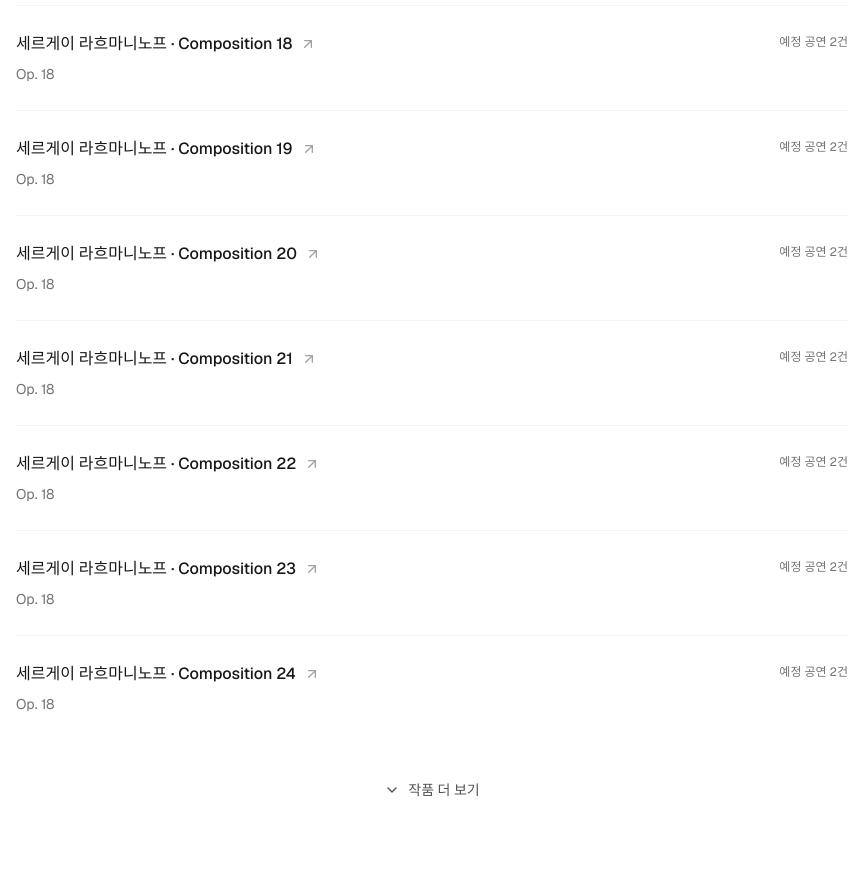
Test case: search-first experience › appends pages once and resets paging on a new submitted query
(page scrolled)
Expected: the link "Composition 30" is not shown
Click the button "작품 더 보기".
click(432, 790)  # box [368,768,496,812]
Wait 150 ms
(page scrolled)
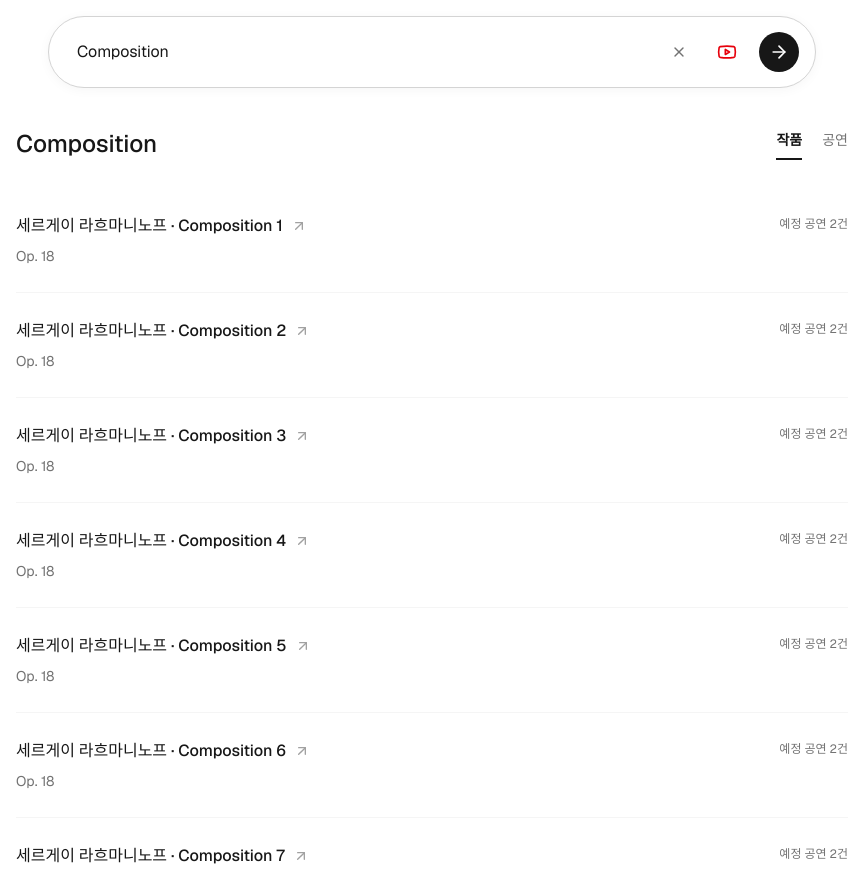
Now the number of links "세르게이 라흐마니노프 · Composition 1" is 30
Replace the text in the dropdown named "곡명, 작곡가, 별칭 검색" with "Composition 30" at (364, 52), box [77,20,651,84]
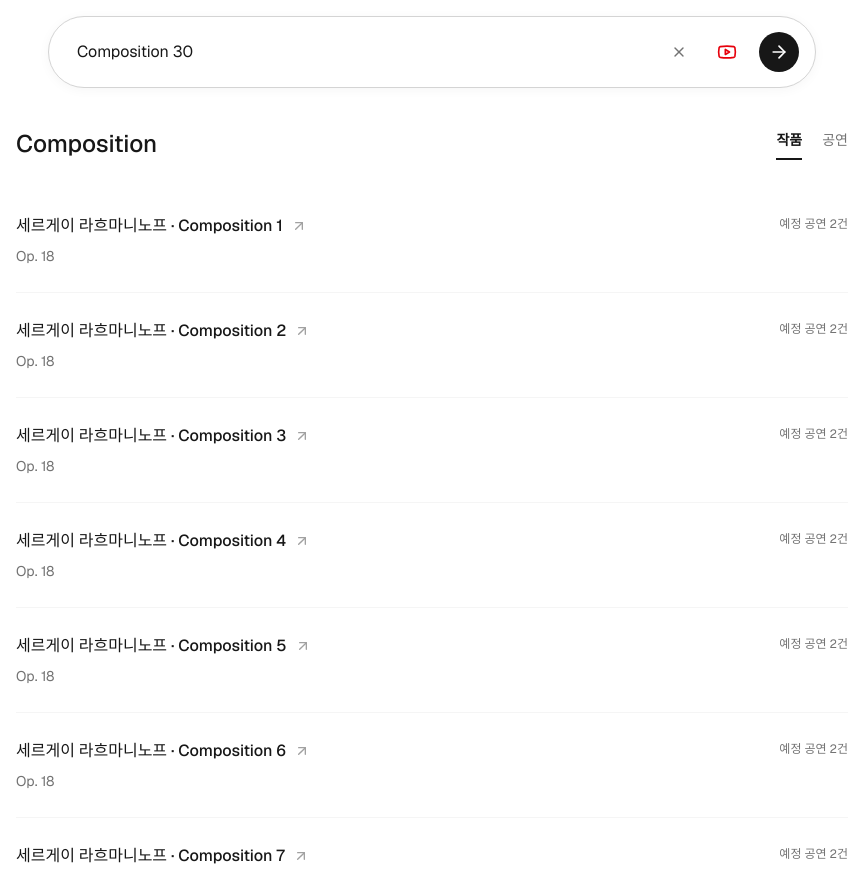
Press Enter in the dropdown named "곡명, 작곡가, 별칭 검색", box [77,20,651,84]
Wait 150 ms
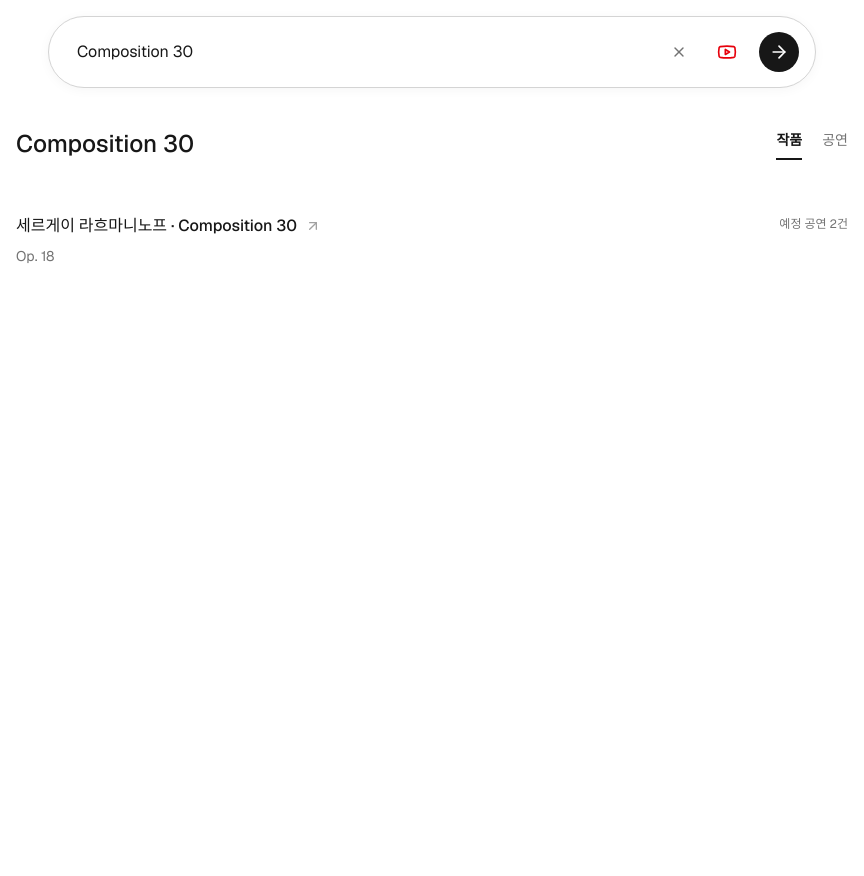
Now the number of links "세르게이 라흐마니노프 · Composition 30" is 1, box [16,212,321,240]
